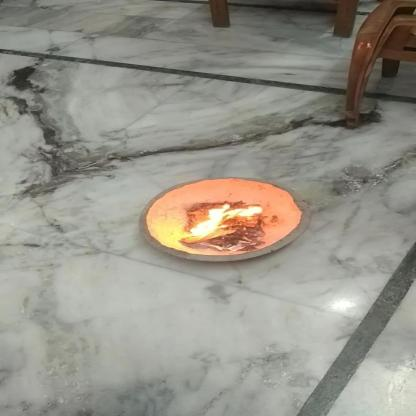fire: (185, 202, 262, 239)
